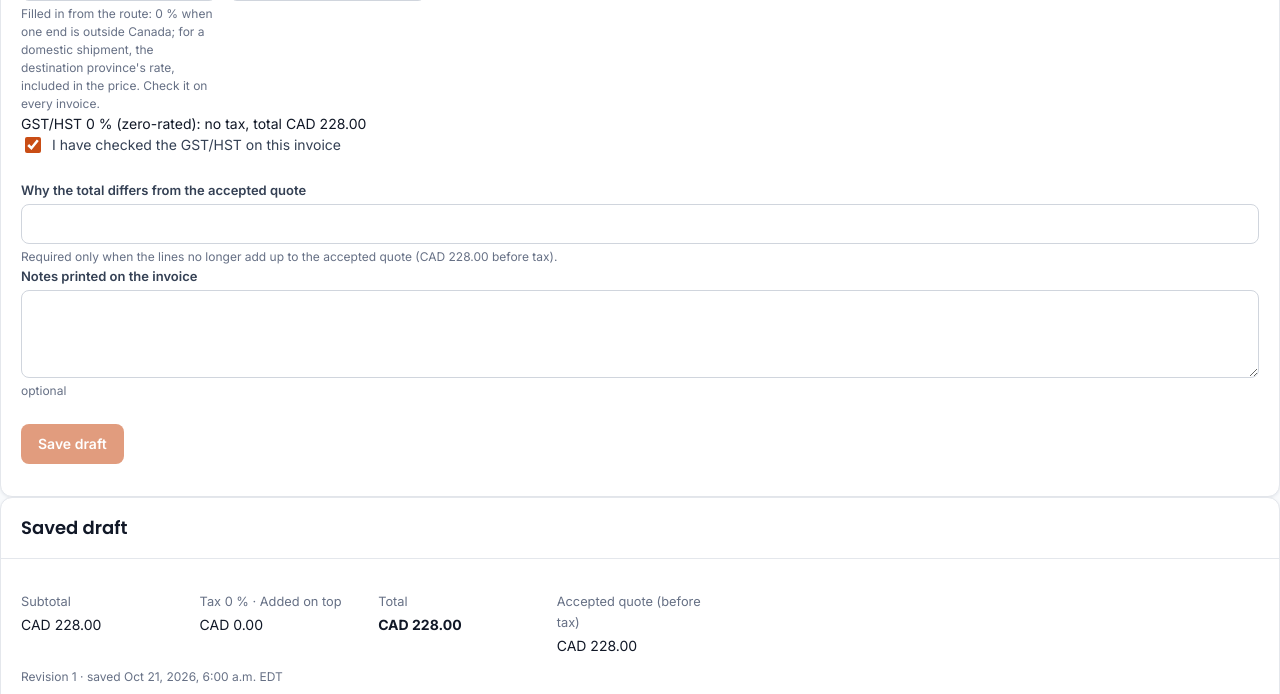
Test: Draft invoice: unsaved edits › keeps unsaved edits when the draft is refetched in the background
(page scrolled)
Type "Fragile" into the text box labelled "Notes printed on the invoice".
click(640, 334); type("Fragile")  # box [21,290,1259,378]
(page scrolled)
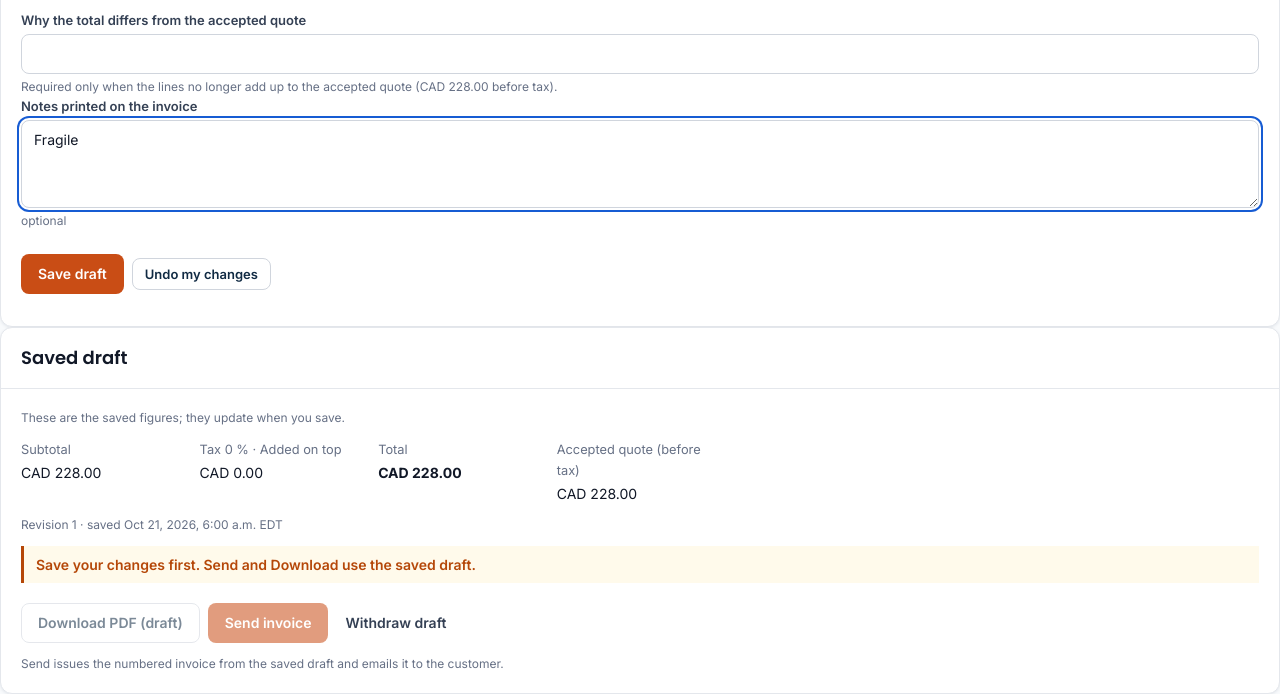
Expected: the text "Save your changes first" is shown, [36,556,476,573]
